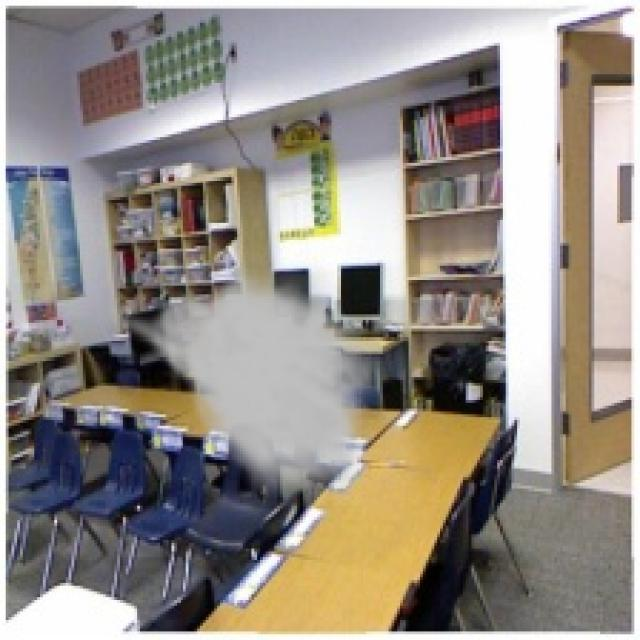smoke: (103, 263, 380, 508)
